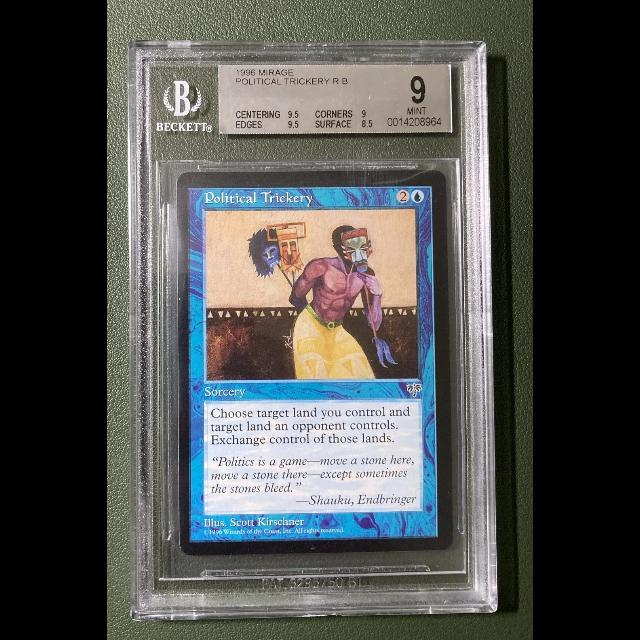bgs_label: (219, 64, 452, 134)
bgs_slab: (127, 40, 500, 619)
card: (177, 170, 455, 555)
